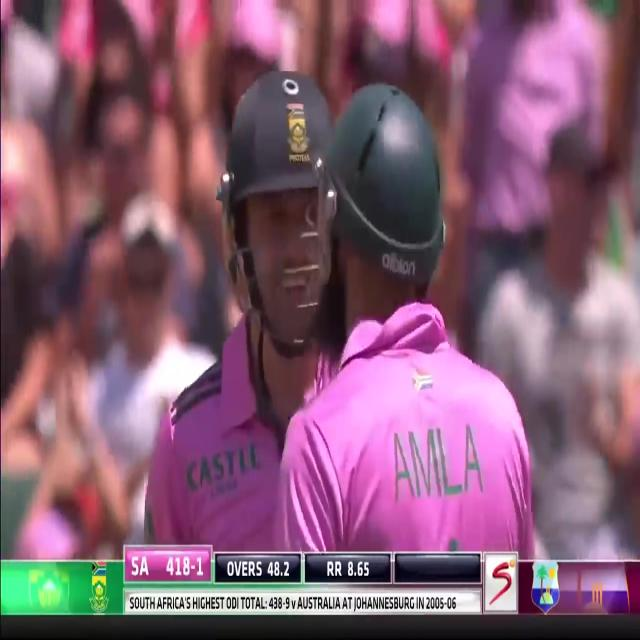Ball: (258, 80, 538, 555)
